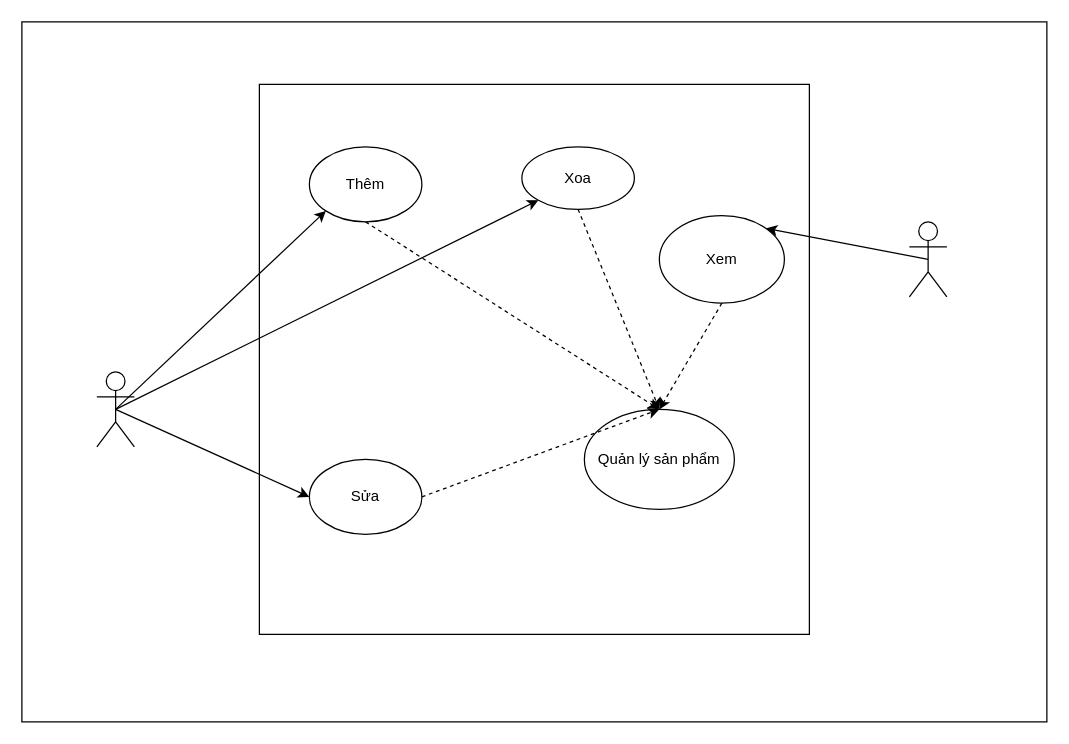
Image size: 1069x744. Some labels were removed from this diagram. The centre of each missing label's shape, as x and y in pixels:
"Admin" belongs at (x=115, y=409).
"User" belongs at (x=927, y=259).
